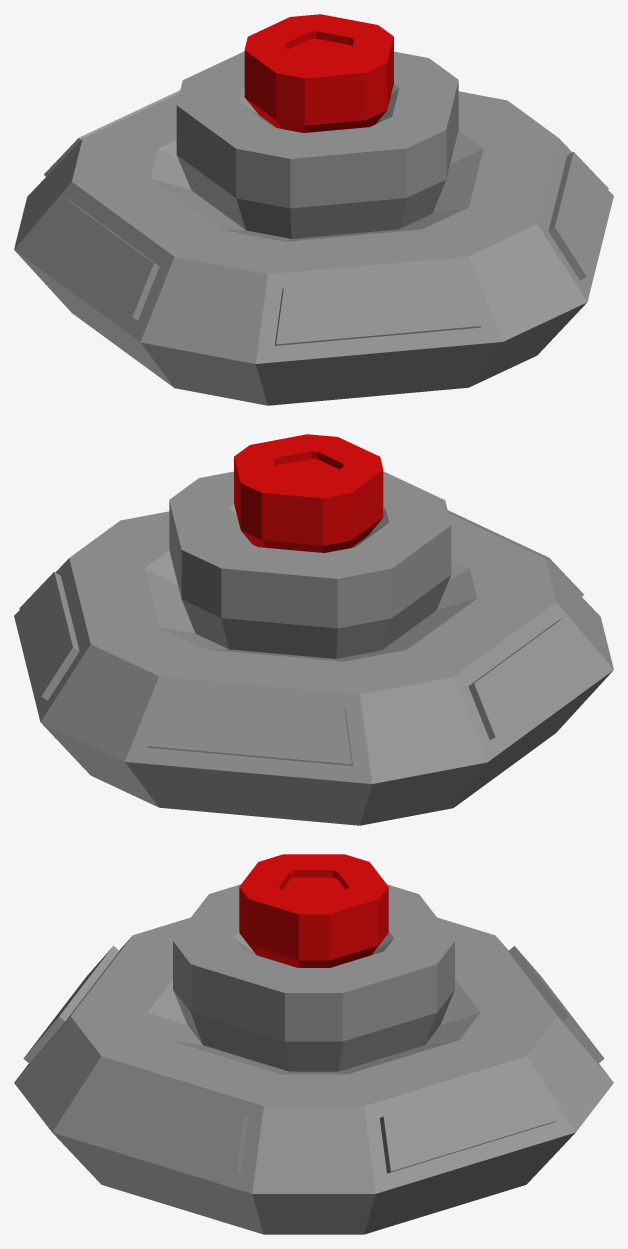
File: Mine State 2.FBX
3 renders of one model, top to bottom at view 1: azimuth 30°, elevation 25°; view 2: azimuth 150°, elevation 25°; view 3: azimuth 270°, elevation 25°, orthographic. The views are drawn at different scales.
Parts seen in each view (by area): view 1: Mine State 2; view 2: Mine State 2; view 3: Mine State 2.
Boxes of the visible parts, bbox=[...] form: Mine State 2: bbox=[14, 14, 613, 405]; Mine State 2: bbox=[14, 434, 613, 825]; Mine State 2: bbox=[14, 854, 613, 1234].
Size of the model in its own units: 26.03 by 12.59 by 27.37.
